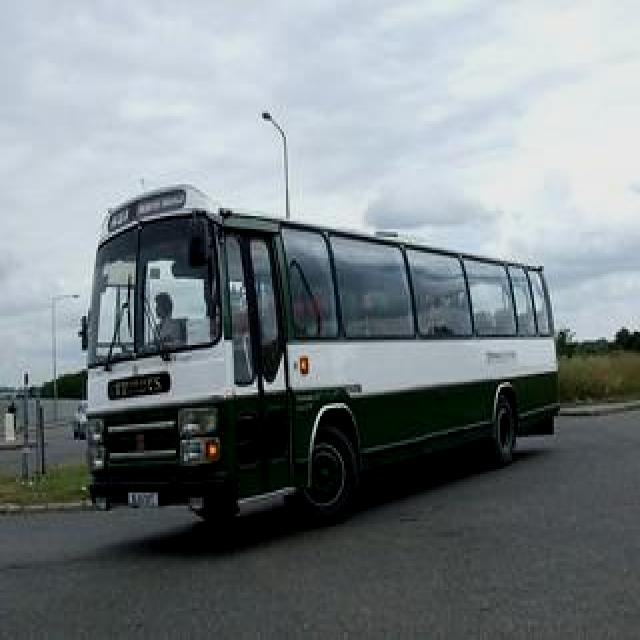Bus: (89, 231, 525, 488)
